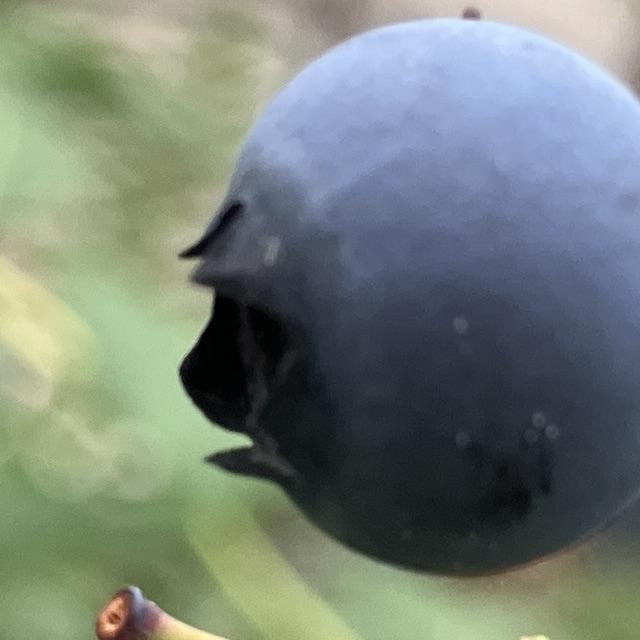Blueberries: (169, 2, 640, 579)
